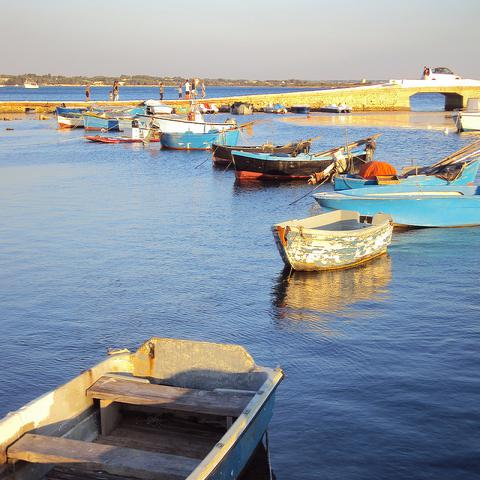car: (420, 68, 461, 80)
